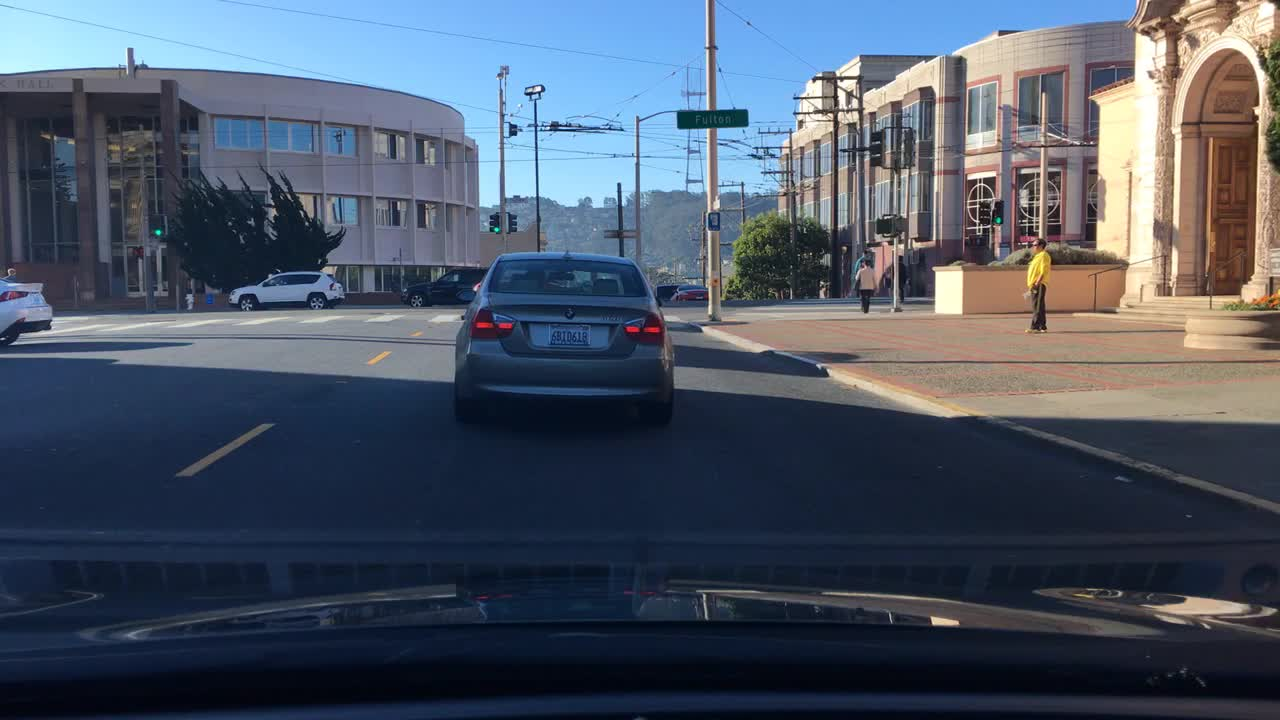car: (449, 252, 676, 427), (225, 268, 346, 311), (400, 264, 489, 306), (0, 278, 53, 346), (666, 284, 711, 306), (653, 281, 676, 306)
person: (1025, 237, 1050, 330), (855, 258, 880, 315), (892, 254, 909, 304), (2, 267, 18, 283)
traffic light: (864, 128, 885, 167), (900, 128, 917, 167), (149, 214, 163, 237), (991, 202, 1005, 225), (874, 217, 893, 233), (506, 212, 519, 235), (979, 199, 990, 225), (489, 213, 502, 234)
traffic sign: (676, 108, 746, 128), (603, 230, 640, 237)
